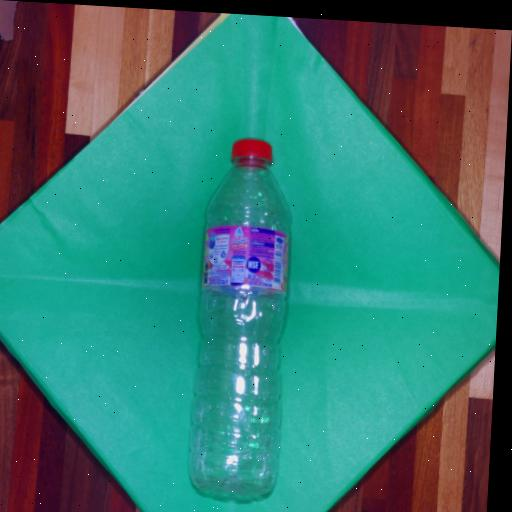bottle: (190, 139, 291, 496)
